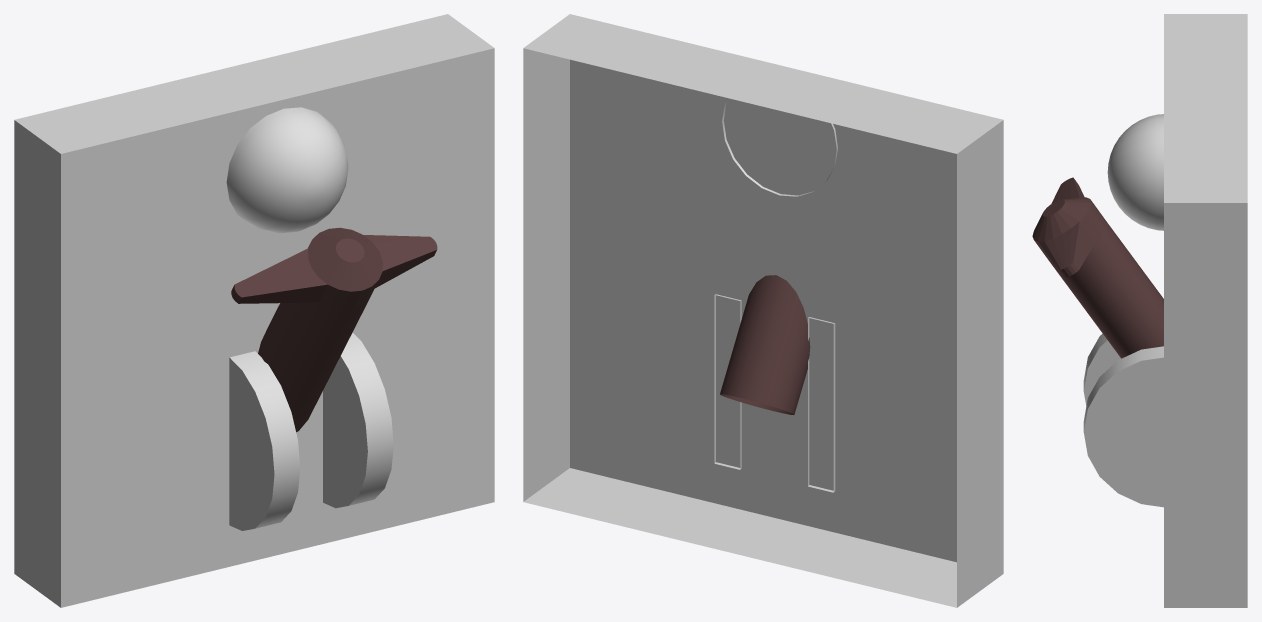
File: Switch.fbx
3 views of the same model, side by side, from view 1: azimuth 30°, elevation 25°; view 2: azimuth 150°, elevation 25°; view 3: azimuth 270°, elevation 25° (orthographic). The views are drawn at different scales.
Visible parts, largest first — view 1: Switch, Handle; view 2: Switch, Handle; view 3: Switch, Handle.
Part boxes in pixels (<box>): Switch: <box>14,14,494,607</box>; Handle: <box>231,227,437,432</box>; Switch: <box>523,14,1003,607</box>; Handle: <box>720,275,810,414</box>; Switch: <box>1083,14,1247,607</box>; Handle: <box>1032,177,1163,358</box>.
Size of the model in its own units: 0.2332 by 0.2332 by 0.1122.
